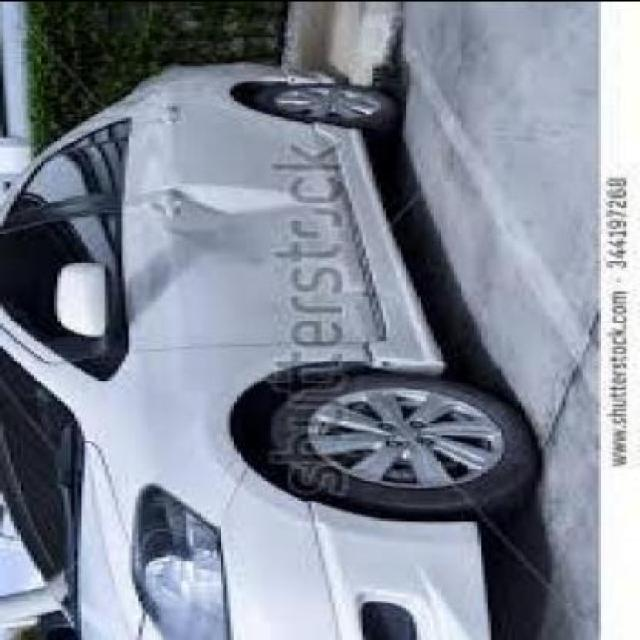damage: (151, 178, 339, 266)
